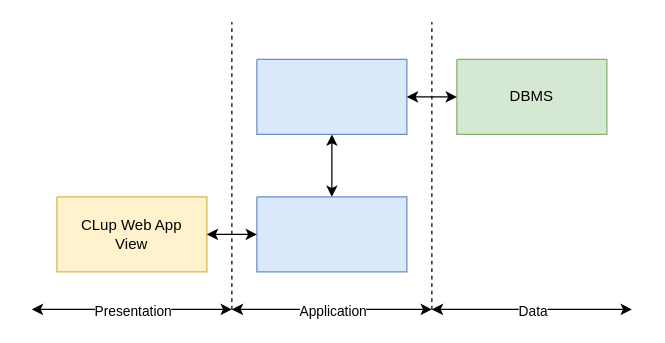
This 665x343 diagram has some shape labels left out. Here are the shapes that lost their labels. From the top down, the centre of each, then its label:
At point (331, 96): "CLup Backend".
At point (331, 234): "CLup Web Server".
